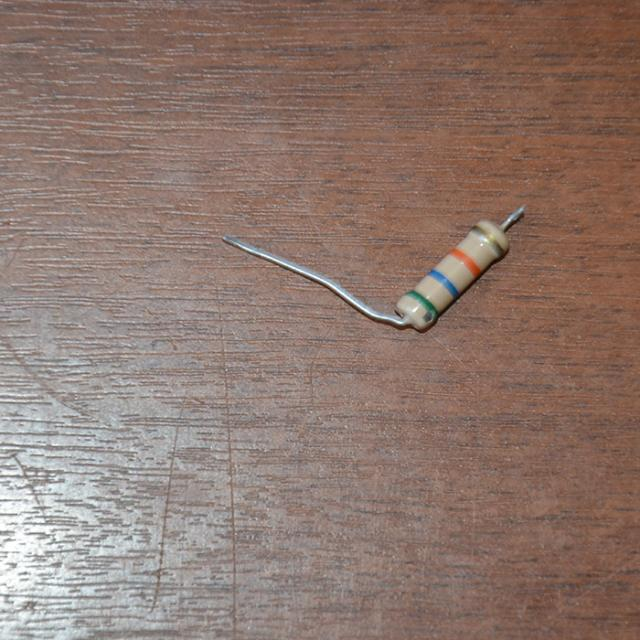blue: (429, 268, 458, 296)
gold: (471, 224, 504, 255)
green: (403, 290, 439, 317)
orange: (450, 248, 482, 276)
resistor: (375, 200, 534, 354)
